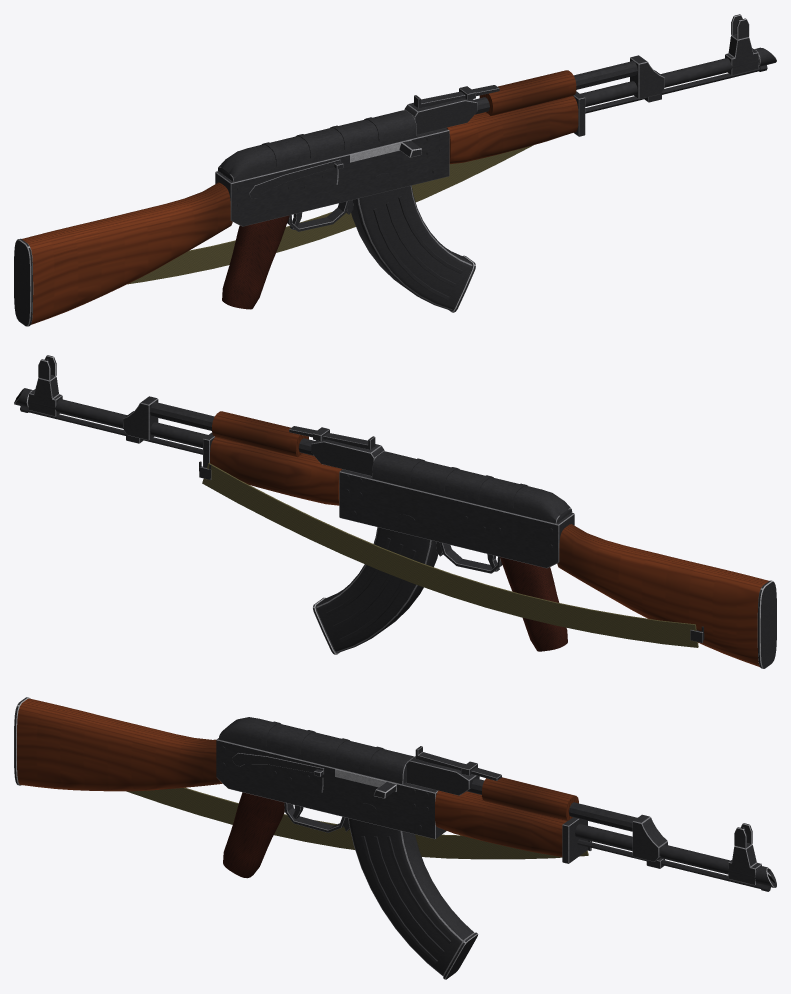
The model's file is akm.glb.
3 views of the same model, one above another, from view 1: azimuth 30°, elevation 25°; view 2: azimuth 150°, elevation 25°; view 3: azimuth 330°, elevation 25° (orthographic).
Visible parts, largest first — view 1: akm_body, akm_sling; view 2: akm_body, akm_sling; view 3: akm_body, akm_sling.
Part boxes in pixels (left/top/right/bottom): akm_body: left=14, top=14, right=776, bottom=326; akm_sling: left=127, top=145, right=533, bottom=284; akm_body: left=14, top=355, right=776, bottom=668; akm_sling: left=199, top=463, right=703, bottom=647; akm_body: left=14, top=697, right=776, bottom=979; akm_sling: left=126, top=787, right=591, bottom=859.
Bounding box in the file's own units: 0.8796 × 0.2467 × 0.0615.
Materials: 1 (1 with a texture image).
